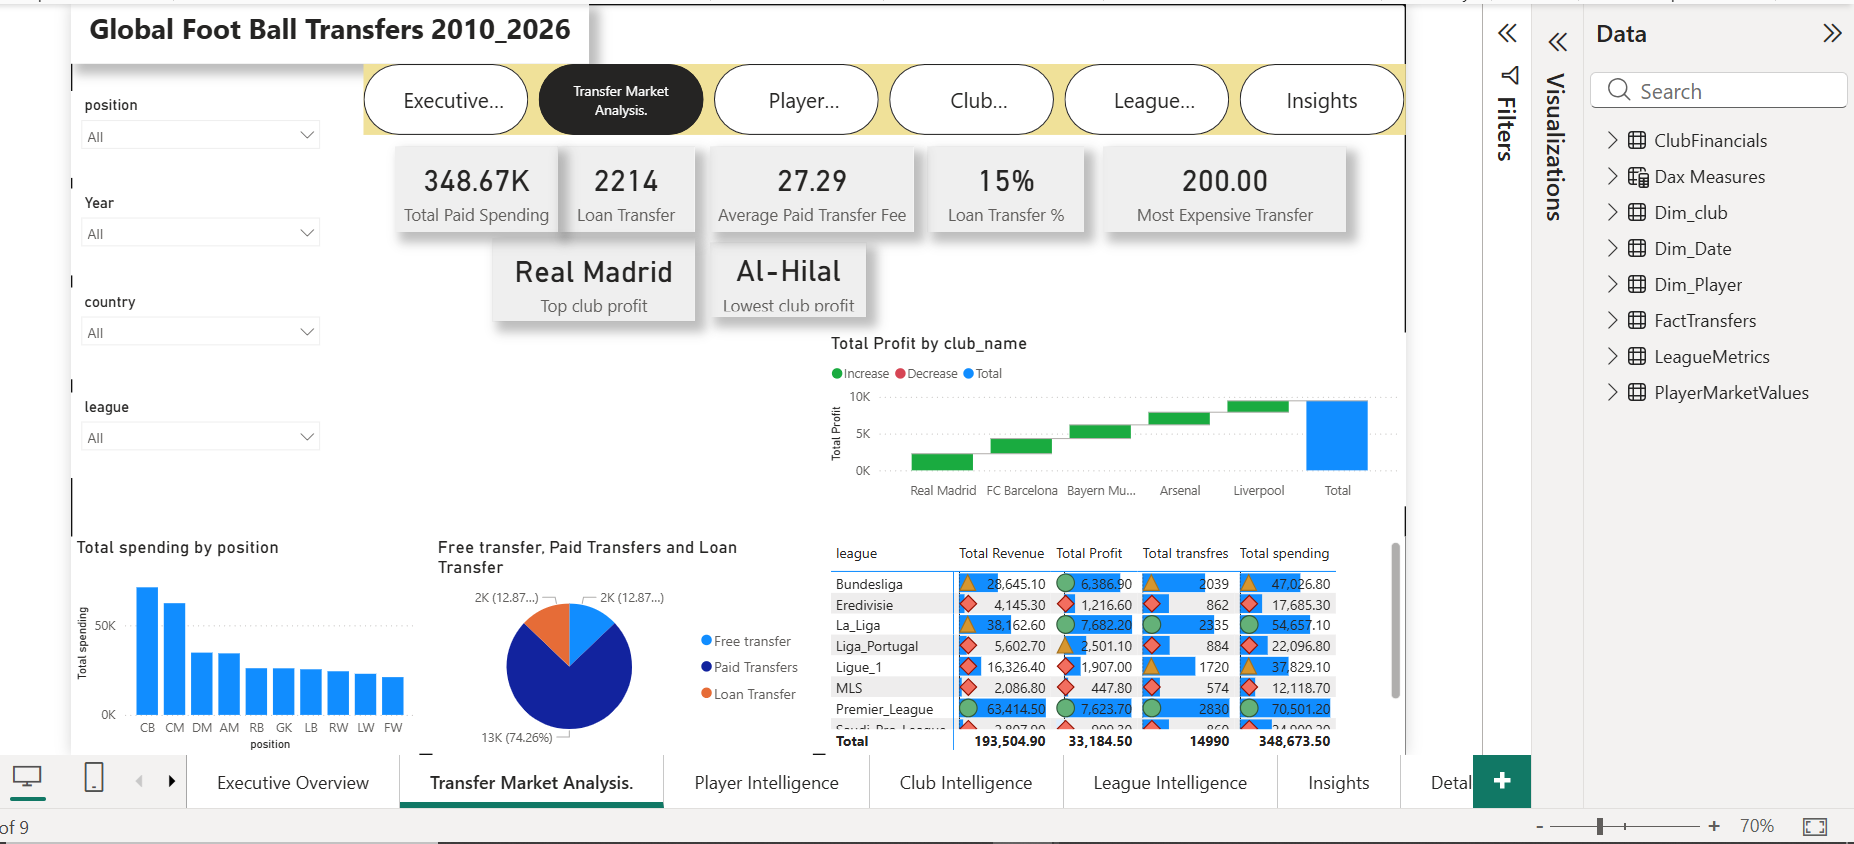

The dashboard page shown, as its layout file describes it:
{"tool":"powerbi","page":{"name":"Transfer Market Analysis.","canvas":[1280,720],"ordinal":1},"visuals":[{"type":"card","fields":{"Values":["Dax Measures.Total Paid Spending"]},"box":[316.5,95.4,156,81.8],"z":0},{"type":"card","fields":{"Values":["Dax Measures.Average Paid Transfer Fee"]},"box":[625.4,95.4,195.3,81.8],"z":1000},{"type":"card","fields":{"Values":["Dax Measures.Loan Transfer"]},"box":[484.6,95.4,131.7,81.8],"z":2000},{"type":"card","fields":{"Values":["Dax Measures.Loan Transfer %"]},"box":[820.7,95.4,149.9,81.8],"z":3000},{"type":"columnChart","fields":{"Y":["Dax Measures.Total spending"],"Category":["Dim_Player.position"]},"box":[0,510.6,334.3,209.7],"z":4000},{"type":"pieChart","fields":{"Y":["Dax Measures.Free transfer","Dax Measures.Paid Transfers","Dax Measures.Loan Transfer"]},"box":[346.5,510.6,364.7,209.7],"z":5000},{"type":"card","fields":{"Values":["Dax Measures.Most Expensive Transfer"]},"box":[984.2,95.4,233.2,81.8],"z":6000},{"type":"slicer","fields":{"Values":["Dim_Player.position"]},"box":[0,83.9,272.4,82.3],"z":7000},{"type":"slicer","fields":{"Values":["Dim_Date.Full_date.Variation.Date Hierarchy.Year"]},"box":[0,177.3,272.4,82.3],"z":8000},{"type":"slicer","fields":{"Values":["Dim_club.country"]},"box":[0,272.4,272.4,87.1],"z":9000},{"type":"slicer","fields":{"Values":["Dim_club.league"]},"box":[0,372.1,272.4,82.3],"z":10000},{"type":"pivotTable","fields":{"Rows":["Dim_club.league"],"Values":["Dax Measures.Total Revenue","Dax Measures.Total Profit","Dax Measures.Total transfres","Dax Measures.Total spending"]},"box":[723.3,510.6,556.2,209.7],"z":11000},{"type":"waterfallChart","fields":{"Y":["Dax Measures.Total Profit"],"Category":["Dim_club.club_name"]},"box":[723.2,315.1,556.2,182.2],"z":12000},{"type":"card","fields":{"Values":["Dax Measures.Top club profit"]},"box":[484.6,195.3,193.8,77.2],"z":13000},{"type":"card","fields":{"Values":["Dax Measures.Lowest club profit"]},"box":[689,195.3,149.9,77.2],"z":14000},{"type":"textbox","box":[504.2,0,369.5,83.3],"z":14001}]}

Visuals, with their boxes on the page's 1280x720 design canvas (x1, y1, x2, y2). These are canvas units, not pixel positions in the 1854x844 screenshot, which may show the page scaled, cropped or inside an application window:
card - Dax Measures.Total Paid Spending: (316,95,472,177)
card - Dax Measures.Average Paid Transfer Fee: (625,95,821,177)
card - Dax Measures.Loan Transfer: (485,95,616,177)
card - Dax Measures.Loan Transfer %: (821,95,971,177)
columnChart - Dax Measures.Total spending x Dim_Player.position: (0,511,334,720)
pieChart - Dax Measures.Free transfer x Dax Measures.Paid Transfers: (346,511,711,720)
card - Dax Measures.Most Expensive Transfer: (984,95,1217,177)
slicer - Dim_Player.position: (0,84,272,166)
slicer - Dim_Date.Full_date.Variation.Date Hierarchy.Year: (0,177,272,260)
slicer - Dim_club.country: (0,272,272,360)
slicer - Dim_club.league: (0,372,272,454)
pivotTable - Dim_club.league x Dax Measures.Total Revenue: (723,511,1280,720)
waterfallChart - Dax Measures.Total Profit x Dim_club.club_name: (723,315,1279,497)
card - Dax Measures.Top club profit: (485,195,678,272)
card - Dax Measures.Lowest club profit: (689,195,839,272)
textbox: (504,0,874,83)
